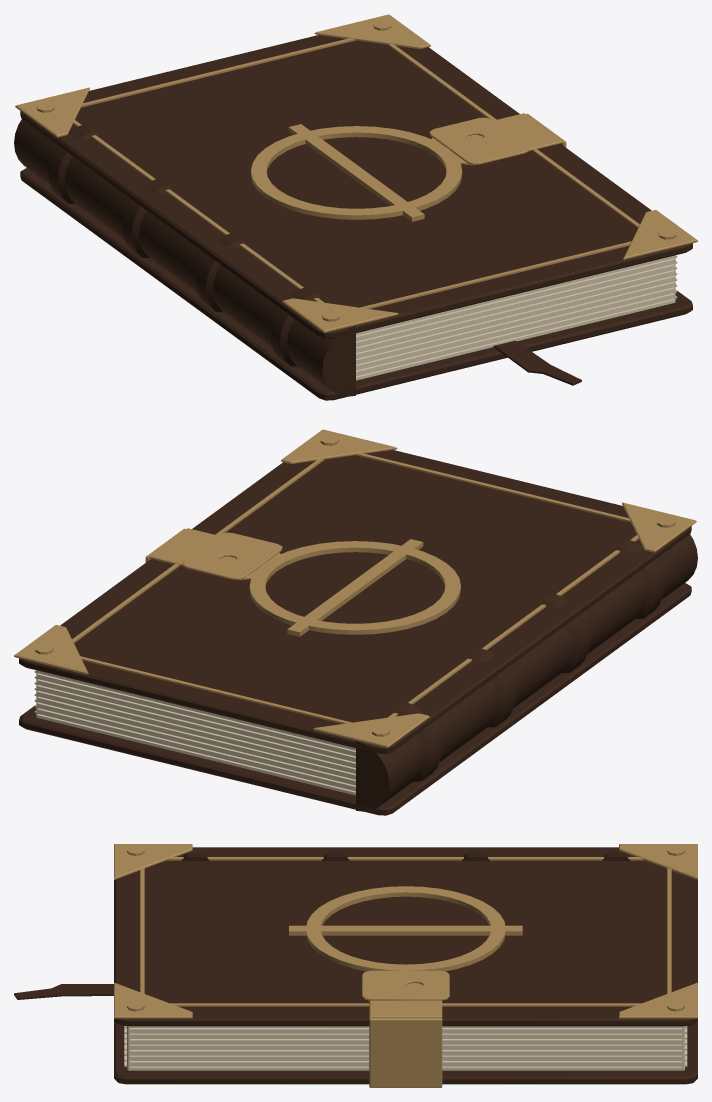
The model's file is strand_log.glb.
3 views of the same model, one above another, from view 1: azimuth 30°, elevation 25°; view 2: azimuth 150°, elevation 25°; view 3: azimuth 270°, elevation 25° (orthographic). The views are drawn at different scales.
Parts seen in each view (by area): view 1: strand_log; view 2: strand_log; view 3: strand_log.
Boxes of the visible parts, <box> form: strand_log: <box>14,14,697,400</box>; strand_log: <box>14,429,697,815</box>; strand_log: <box>14,844,697,1087</box>.
Bounding box in the file's own units: 0.1435 × 0.0284 × 0.2342.
